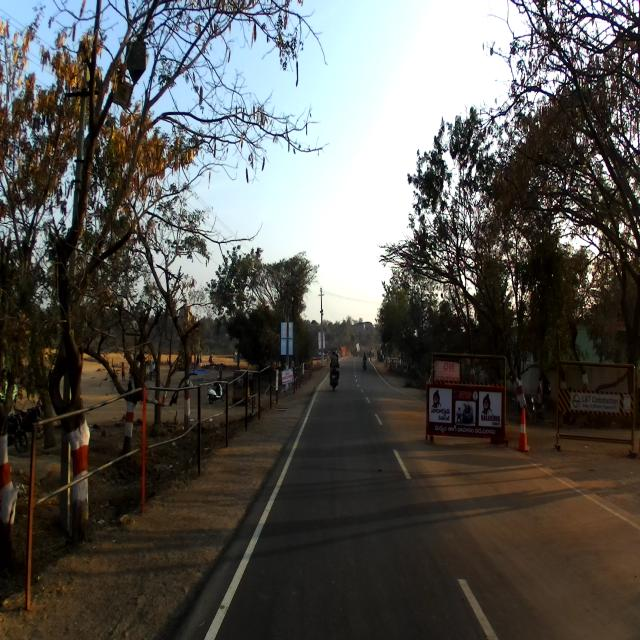barrier ahead at: (550, 368, 637, 460), (424, 376, 506, 451), (516, 407, 531, 456)
